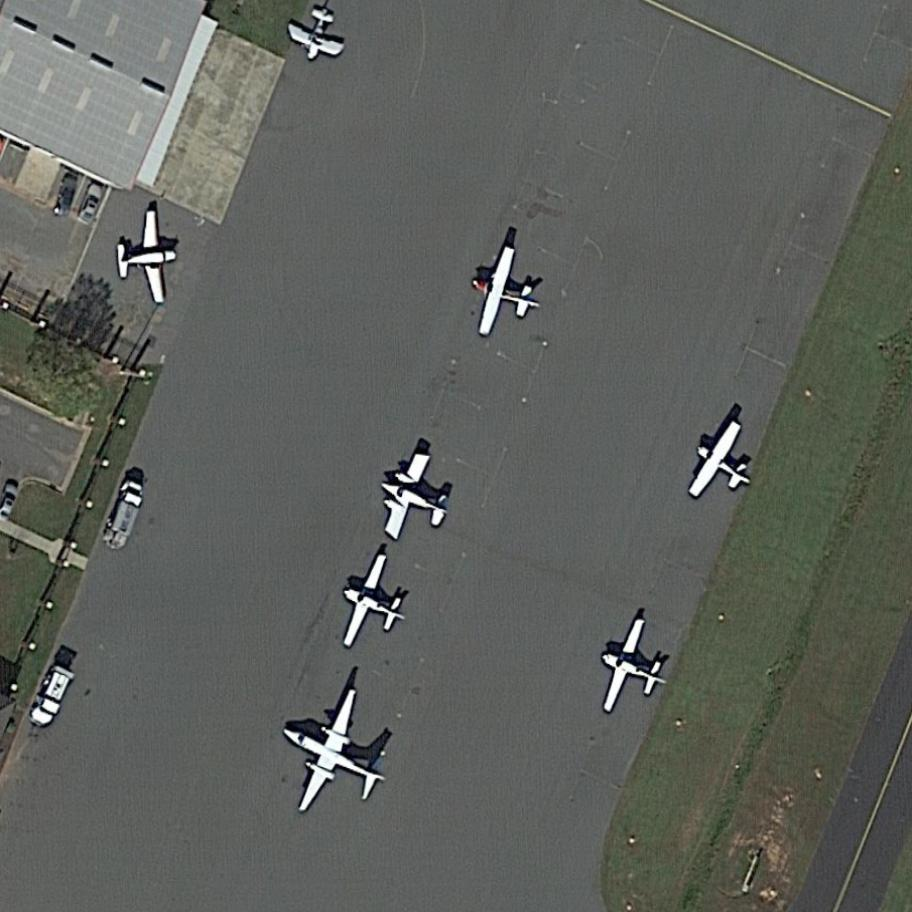large-vehicle: (96, 477, 153, 556), (23, 664, 74, 735)
plane: (254, 664, 419, 844), (321, 541, 428, 666), (583, 609, 687, 732), (671, 411, 778, 526), (365, 438, 468, 555), (457, 236, 556, 353), (114, 207, 184, 312), (277, 0, 357, 75)
small-vehicle: (75, 179, 109, 227), (48, 174, 82, 221)
